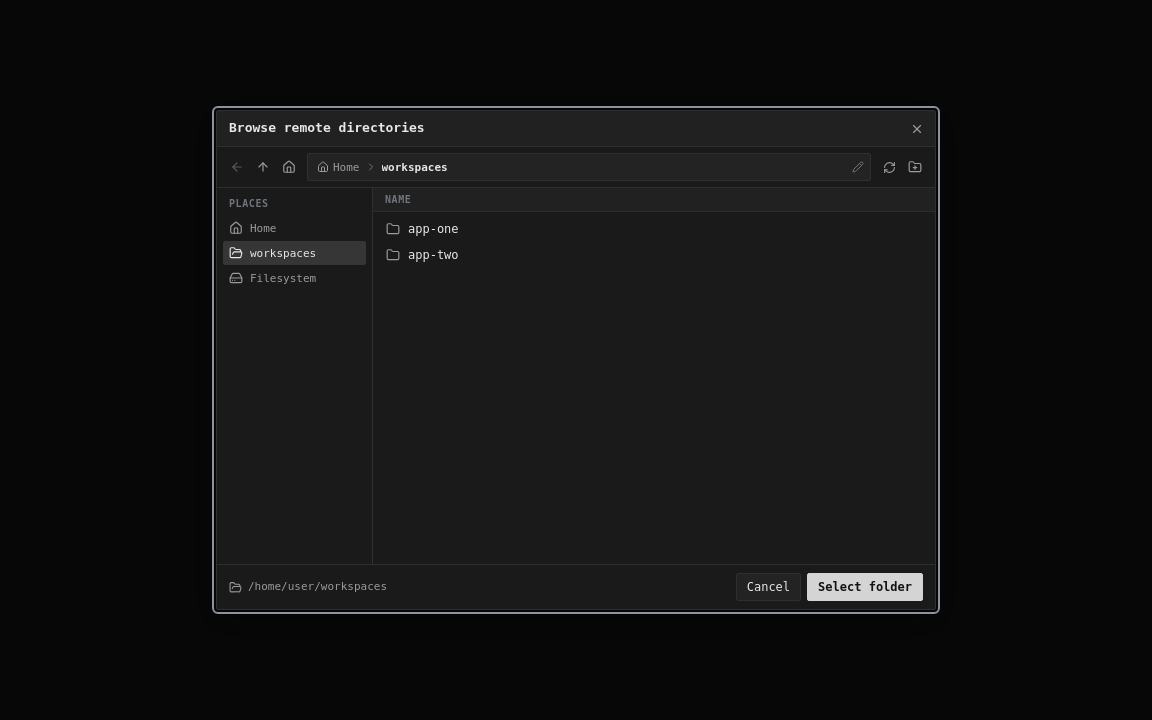
Test: RemoteDirectoryChooser › accepts a typed location, expanding ~ against the remote home
Expected: the option "app-one" is shown, [377,216,931,242]
Click the button named "Type a location" at (858, 167), box [848,157,868,177]
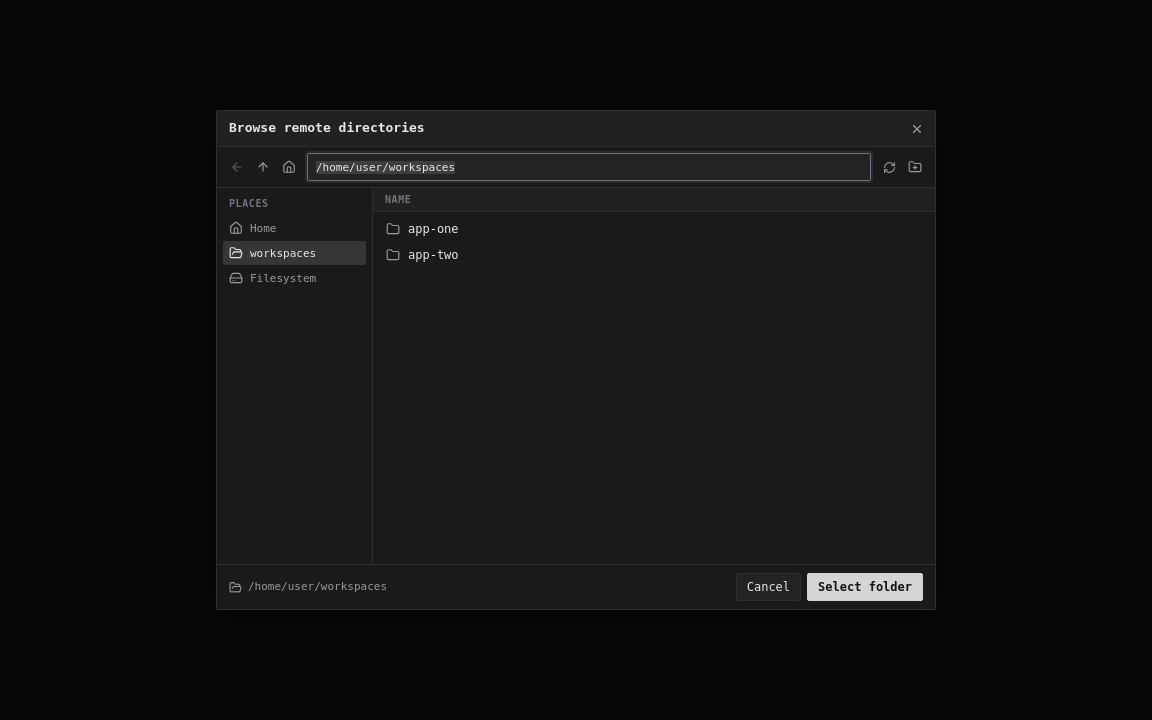
Expected: the field named "Location" holds "/home/user/workspaces"
Replace the text in the field named "Location" with "~/projects" at (589, 167), box [307,153,871,181]
Then press Enter
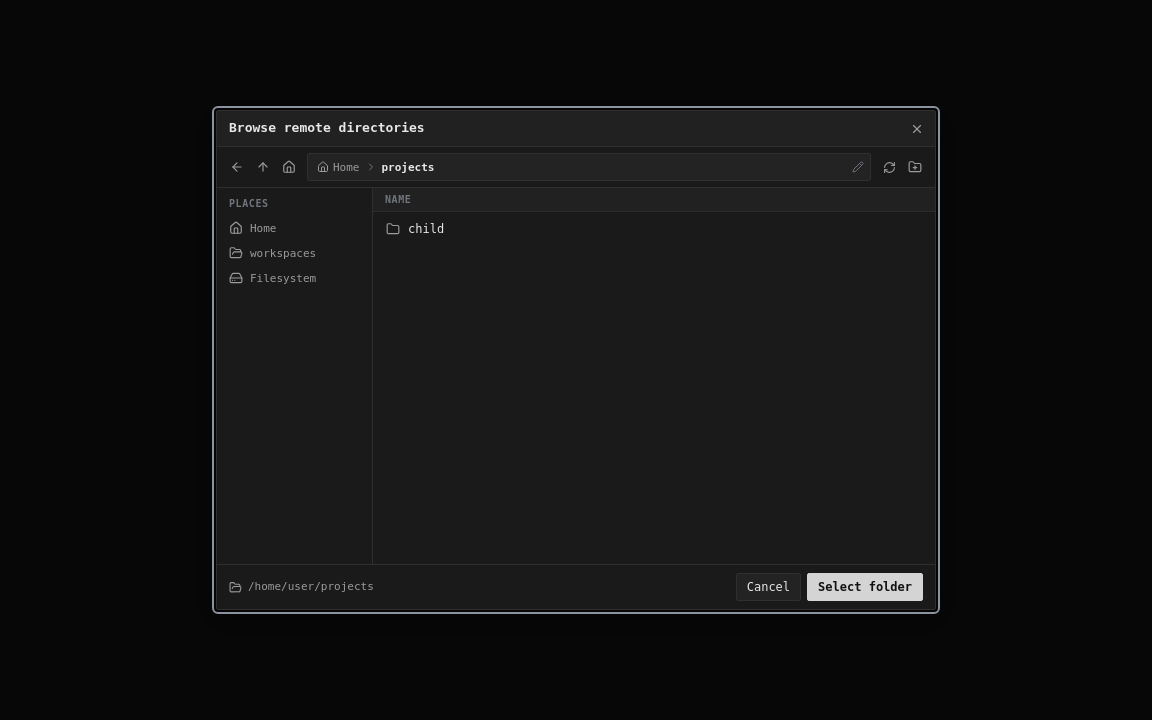
Click the button named "Type a location" at (858, 167), box [848,157,868,177]
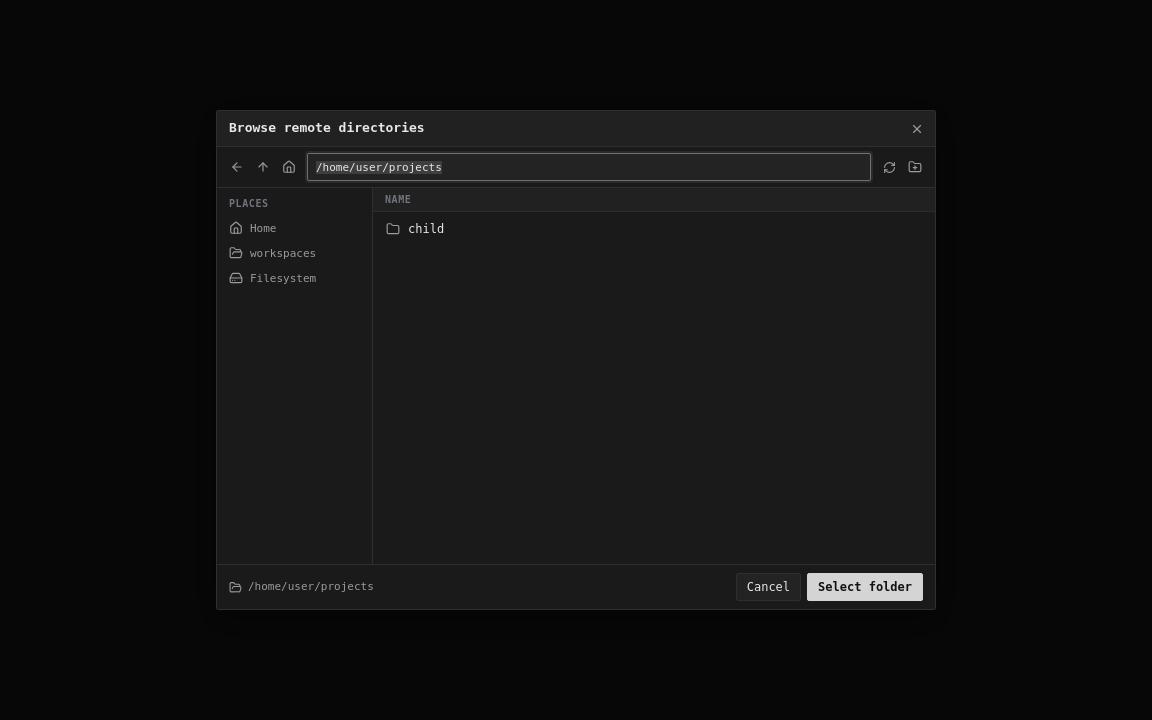
Replace the text in the field named "Location" with "relative/path" at (589, 167), box [307,153,871,181]
Then press Enter
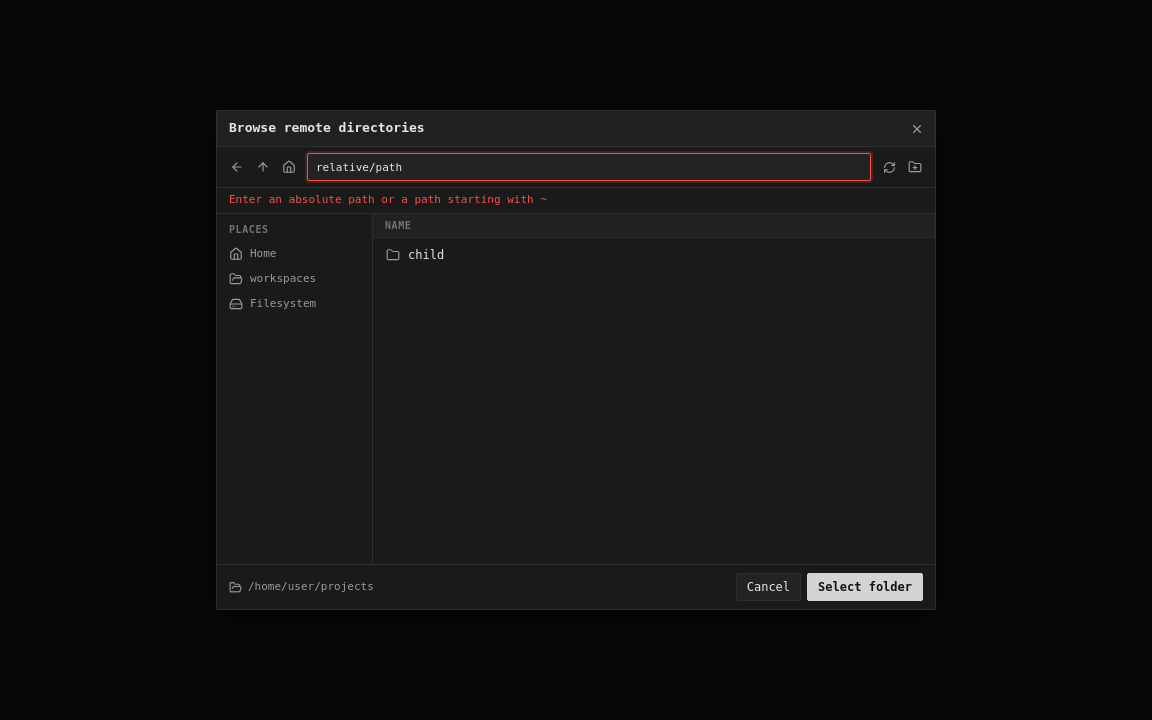
Expected: the message shows "Enter an absolute path", [229,193,547,206]
